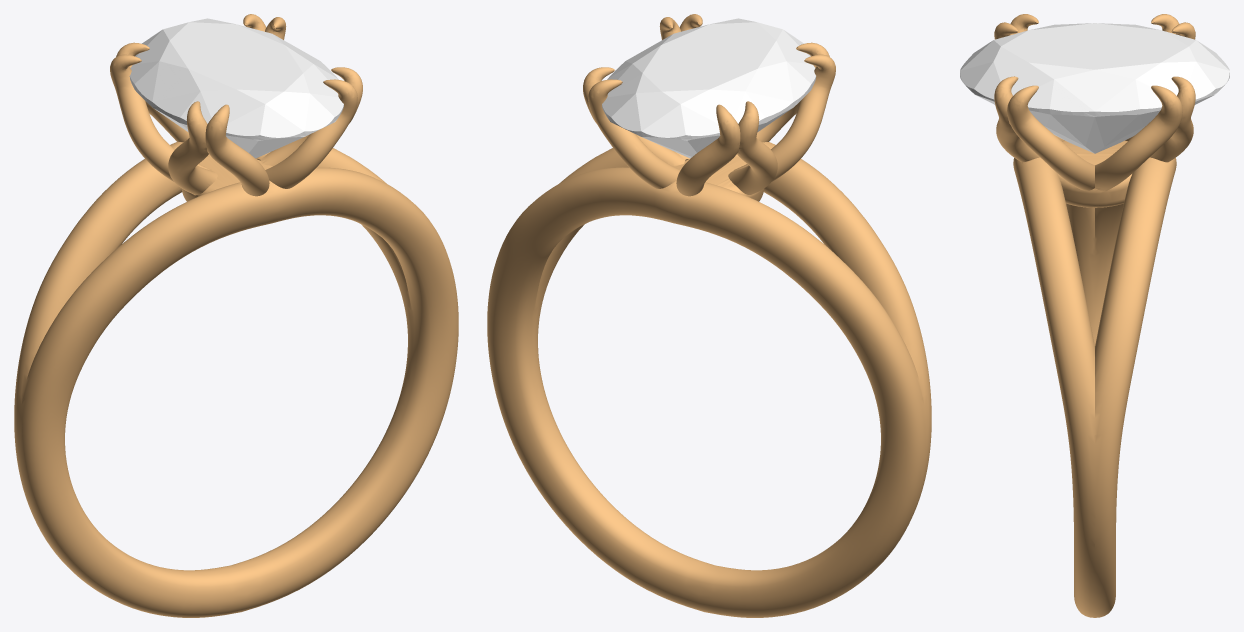
3 renders of one model, left to right at view 1: azimuth 30°, elevation 25°; view 2: azimuth 150°, elevation 25°; view 3: azimuth 270°, elevation 25°, orthographic.
Parts seen in each view (by area): view 1: object 1, 3Design CAD STL : part0; view 2: object 1, 3Design CAD STL : part0; view 3: object 1, 3Design CAD STL : part0.
Boxes of the visible parts, x1,y1,x2,y2 form: object 1: [14, 14, 458, 617]; 3Design CAD STL : part0: [129, 18, 343, 158]; object 1: [487, 14, 931, 617]; 3Design CAD STL : part0: [602, 18, 816, 158]; object 1: [994, 14, 1195, 617]; 3Design CAD STL : part0: [960, 23, 1229, 153].
Bounding box in the file's own units: 2.4 × 2.92 × 1.3.
